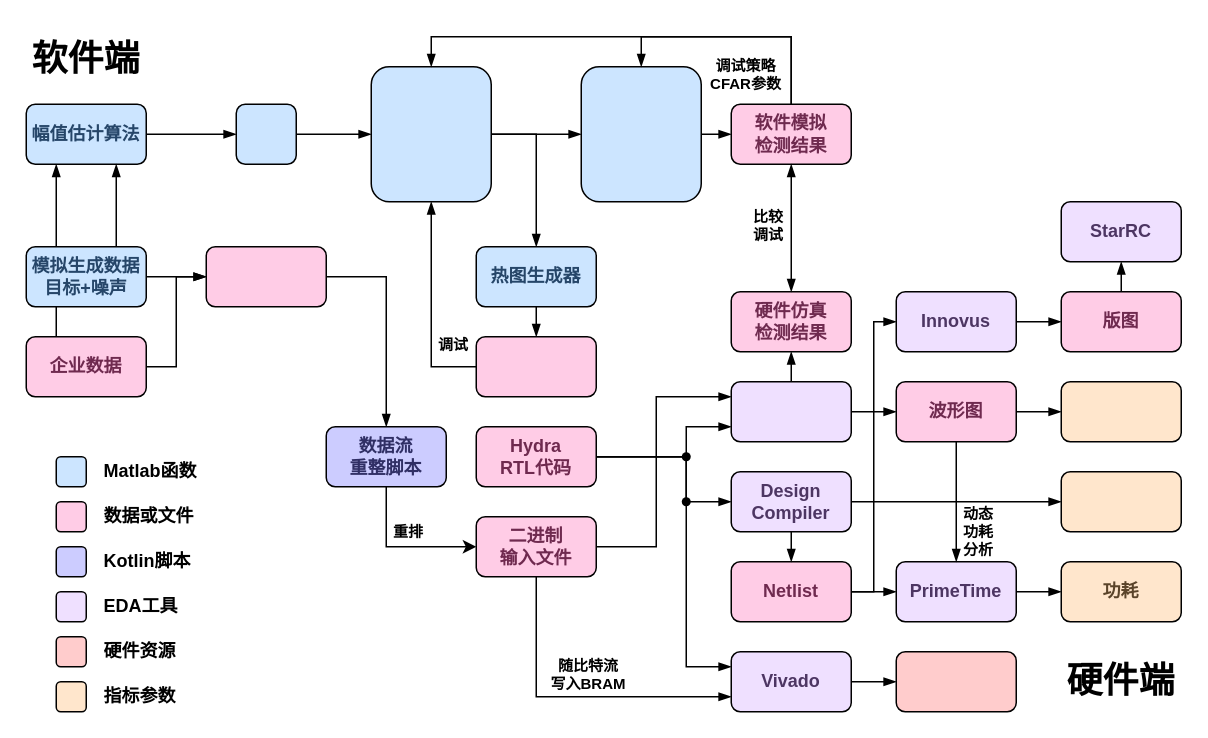
Some shapes in this 1208 by 738 pixel diagram are drawn without their labels. The centre of each missing label's shape, as x and y in pixels:
"VCS" goes at point 790,411.
"Xilinx 7k325t 原型验证" goes at point 955,681.
"原始数据" goes at point 265,276.
"各种 CFAR 算法" goes at point 640,133.
"合并 算法" goes at point 430,133.
"热图" goes at point 535,366.
"算力" goes at point 1120,411.
"面积" goes at point 1120,501.
"预处理" goes at point 265,133.
